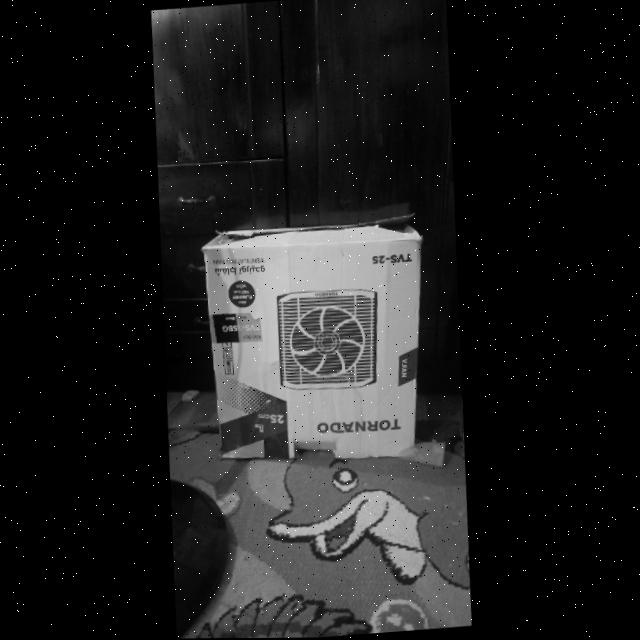document: (200, 225, 422, 461)
